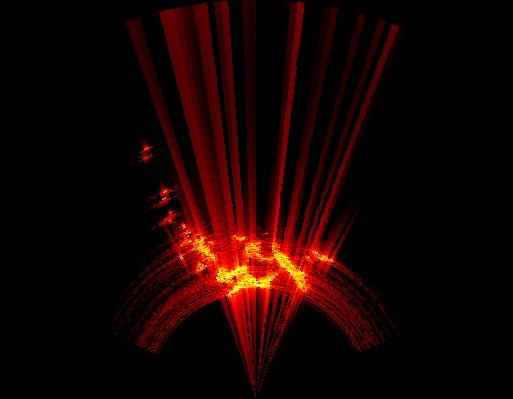shipwreck: (177, 228, 311, 292)
